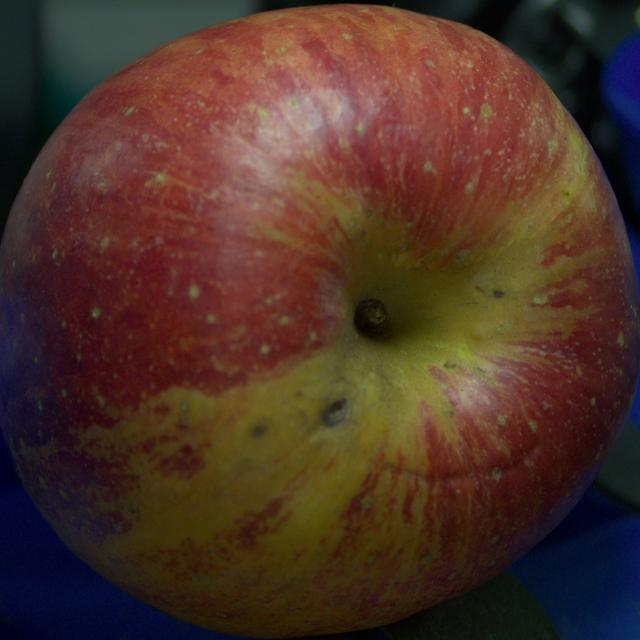apple: (0, 5, 639, 637)
bruise: (383, 439, 541, 486)
pest: (322, 399, 347, 426), (252, 425, 266, 437)
